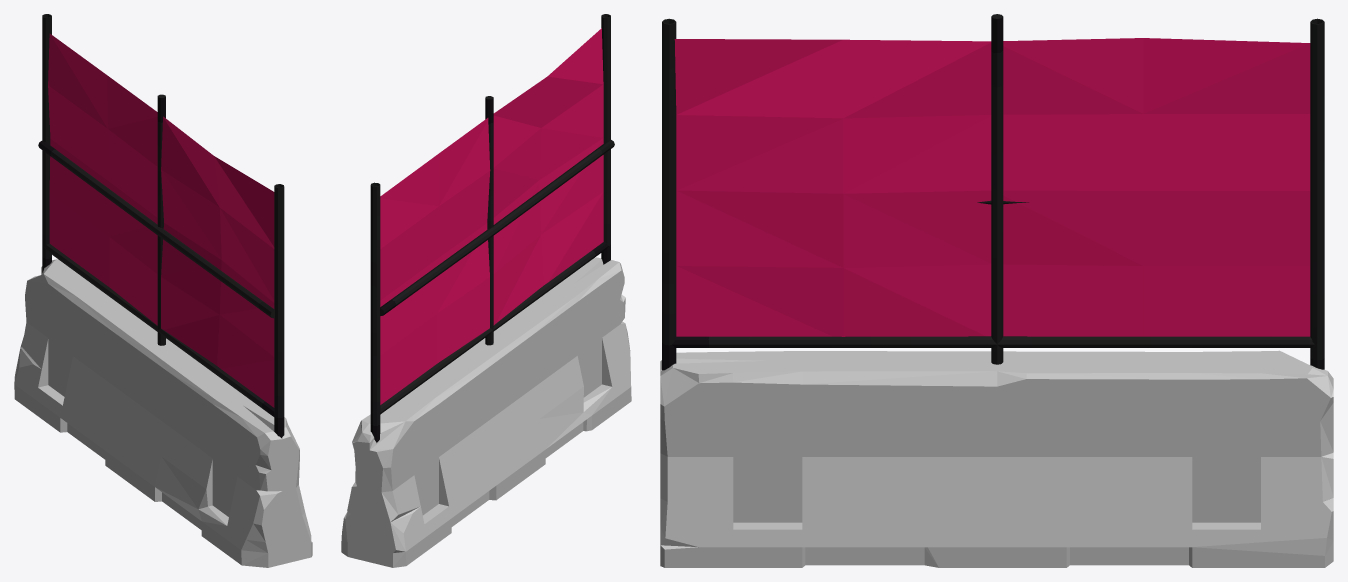
The model's file is Construction_Block01.fbx.
3 views of the same model, side by side, from view 1: azimuth 30°, elevation 25°; view 2: azimuth 150°, elevation 25°; view 3: azimuth 270°, elevation 25° (orthographic). The views are drawn at different scales.
Visible parts, largest first — view 1: SM_City_Construction_Block_01b.mo; view 2: SM_City_Construction_Block_01b.mo; view 3: SM_City_Construction_Block_01b.mo.
Part boxes in pixels (box(x1,y1,x2,y2)): SM_City_Construction_Block_01b.mo: box(14, 14, 312, 567); SM_City_Construction_Block_01b.mo: box(341, 14, 631, 567); SM_City_Construction_Block_01b.mo: box(660, 14, 1333, 567).
Bounding box in the file's own units: 44.73 × 256 × 295.
